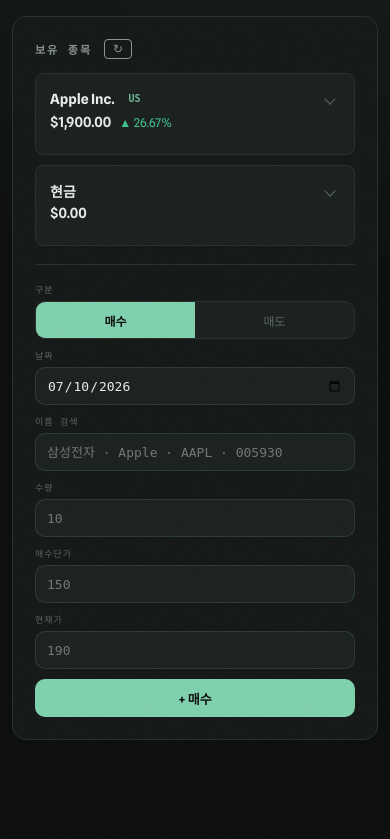
Test: HoldingsTable › 모바일 카드 접기/펼치기 › ∧ 버튼 클릭 시 stats 다시 숨김
Click the button titled "펼치기" in the row of "US": point(330, 98) 320,88 -> 340,109
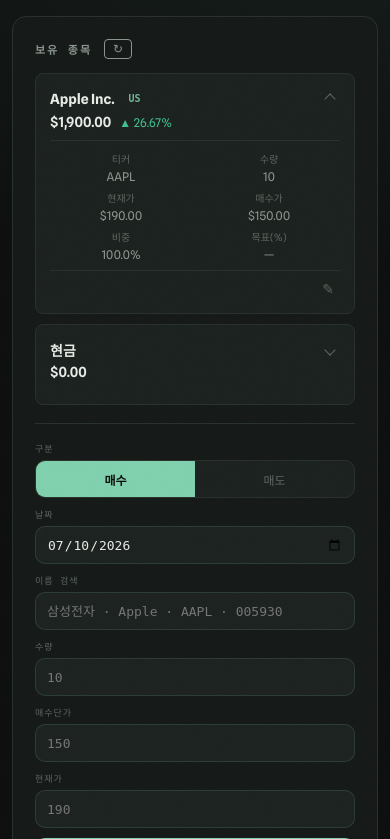
Check: the element with class "holding-card-stats" is shown, box 50,140 -> 340,262
Click the button titled "접기": point(330, 98) 320,88 -> 340,109
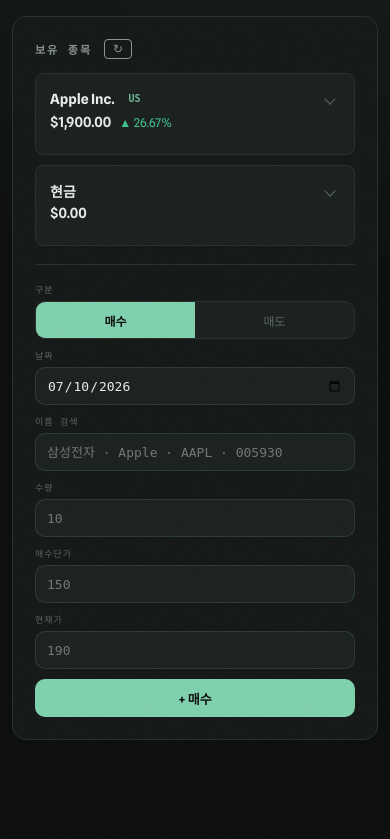
Check: the element with class "holding-card-stats" is gone
